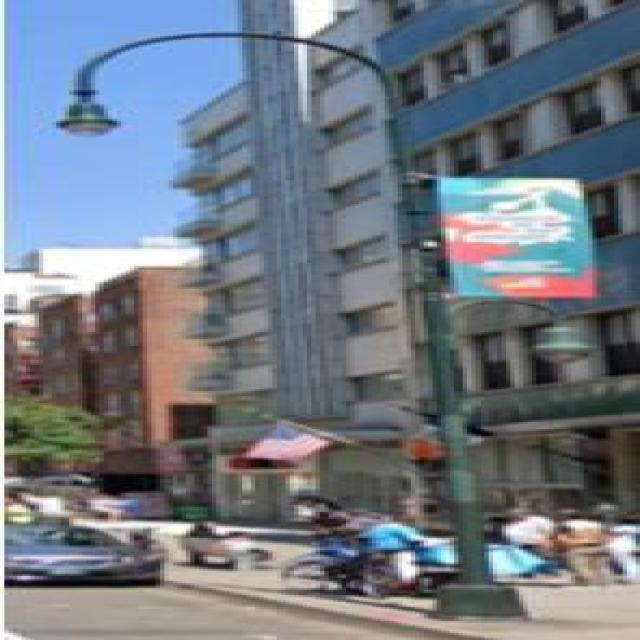off: (10, 5, 170, 164)
